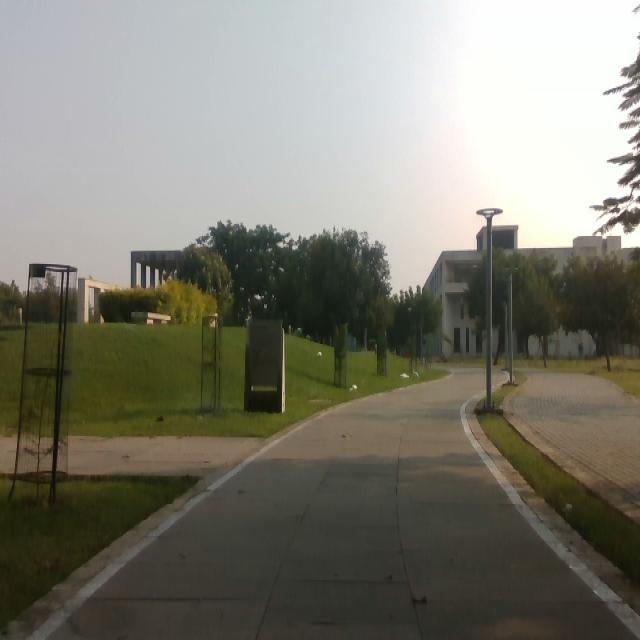lane: (50, 370, 638, 638)
